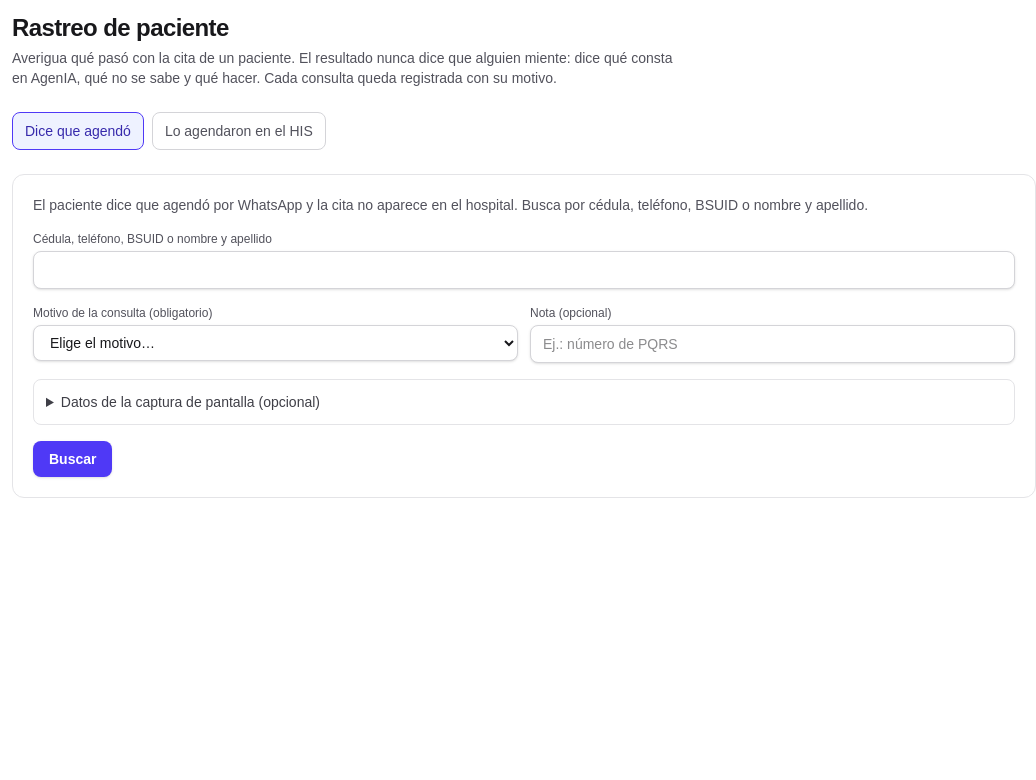
it: RastreoClient — el formulario › 🔒 sin motivo NO se busca: el motivo es obligatorio
Type "1088123456" into the field labelled "Cédula, teléfono, BSUID o nombre y apellido".
click(524, 270); type("1088123456")  # box [33,251,1015,289]
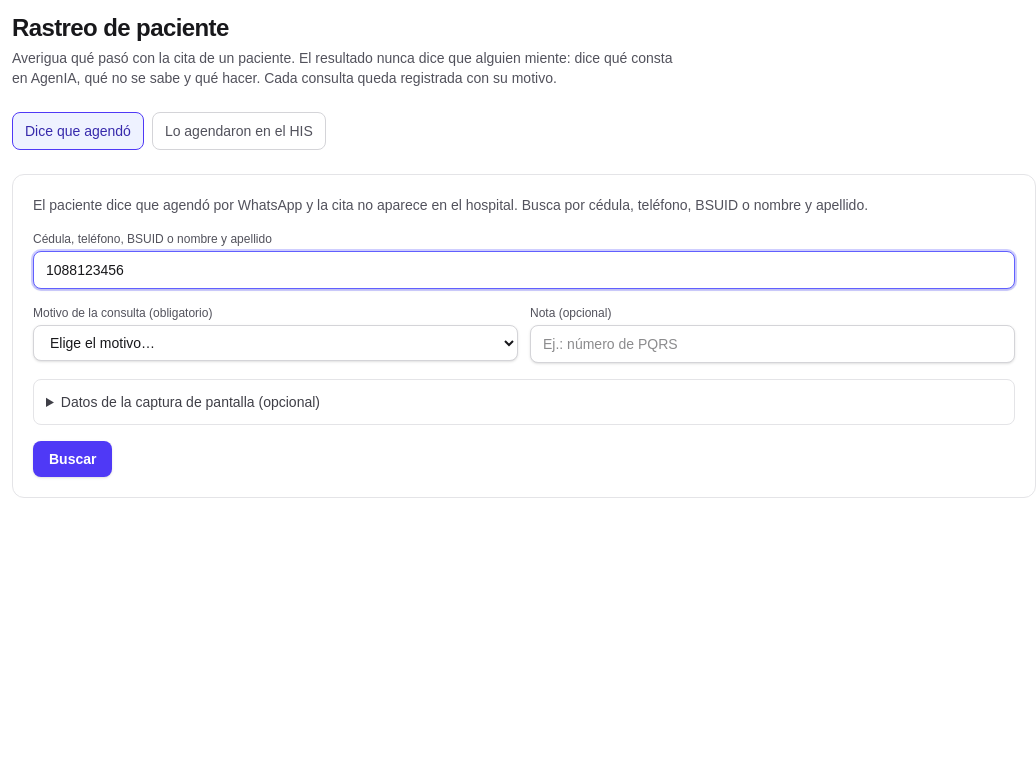
Click the button "Buscar".
click(73, 459)  # box [33,441,112,477]
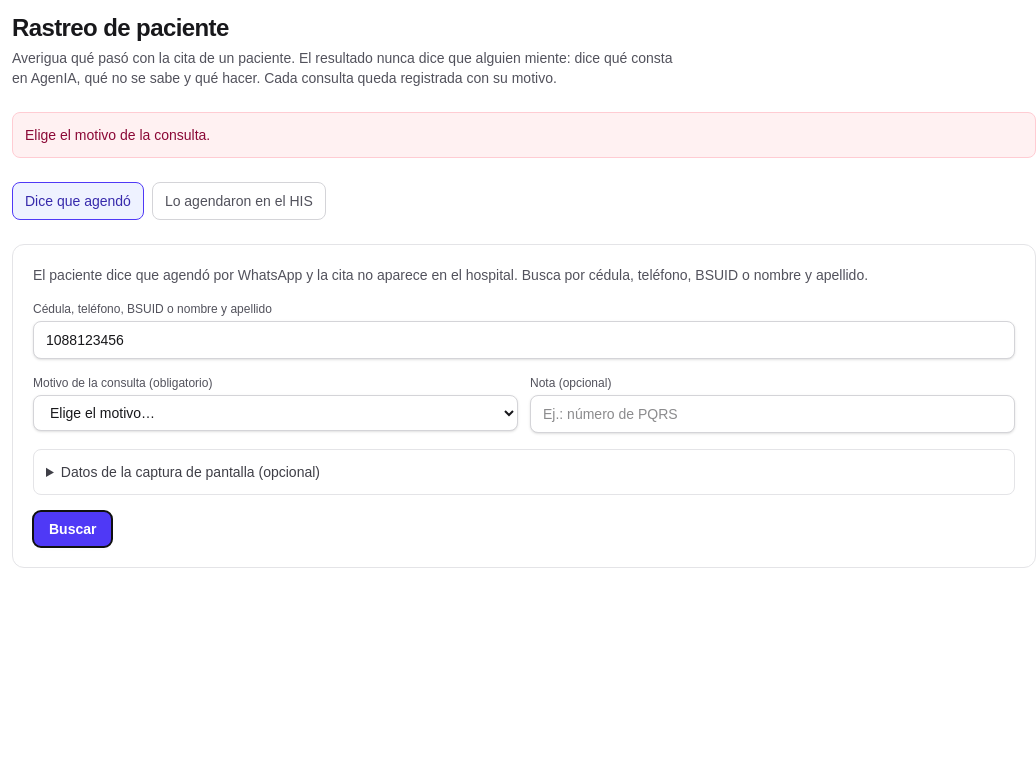
expect the message reads "Elige el motivo de la consulta.": met, box [25,127,210,143]
